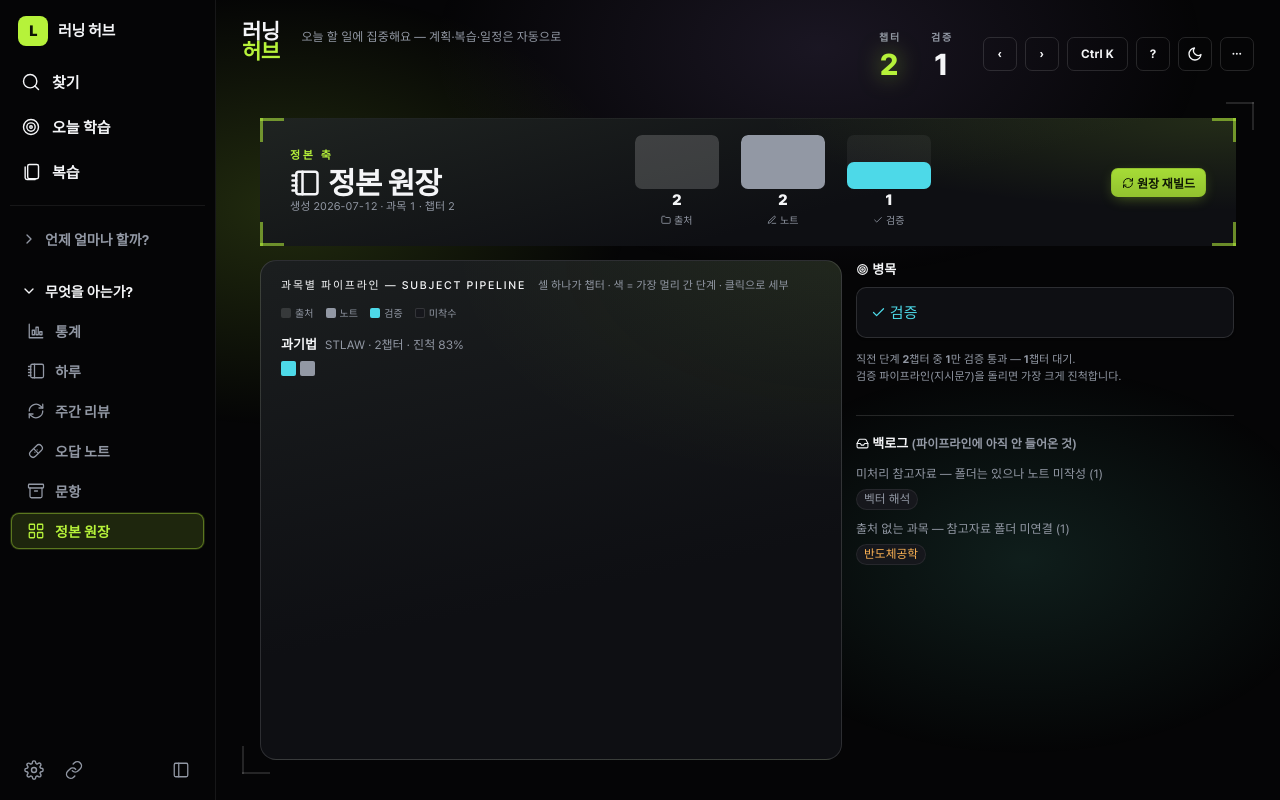
it: 원장 데이터 → 과목 행·백로그 렌더, 셀 클릭 시 챕터 상세가 열린다
Expected: the text "과기법" is shown, [281,335,317,355]
Expected: the text "벡터 해석" is shown, [856,489,918,510]
Click the button named "01 법의 가치관 — verified" at (288, 369), box [281,361,296,376]
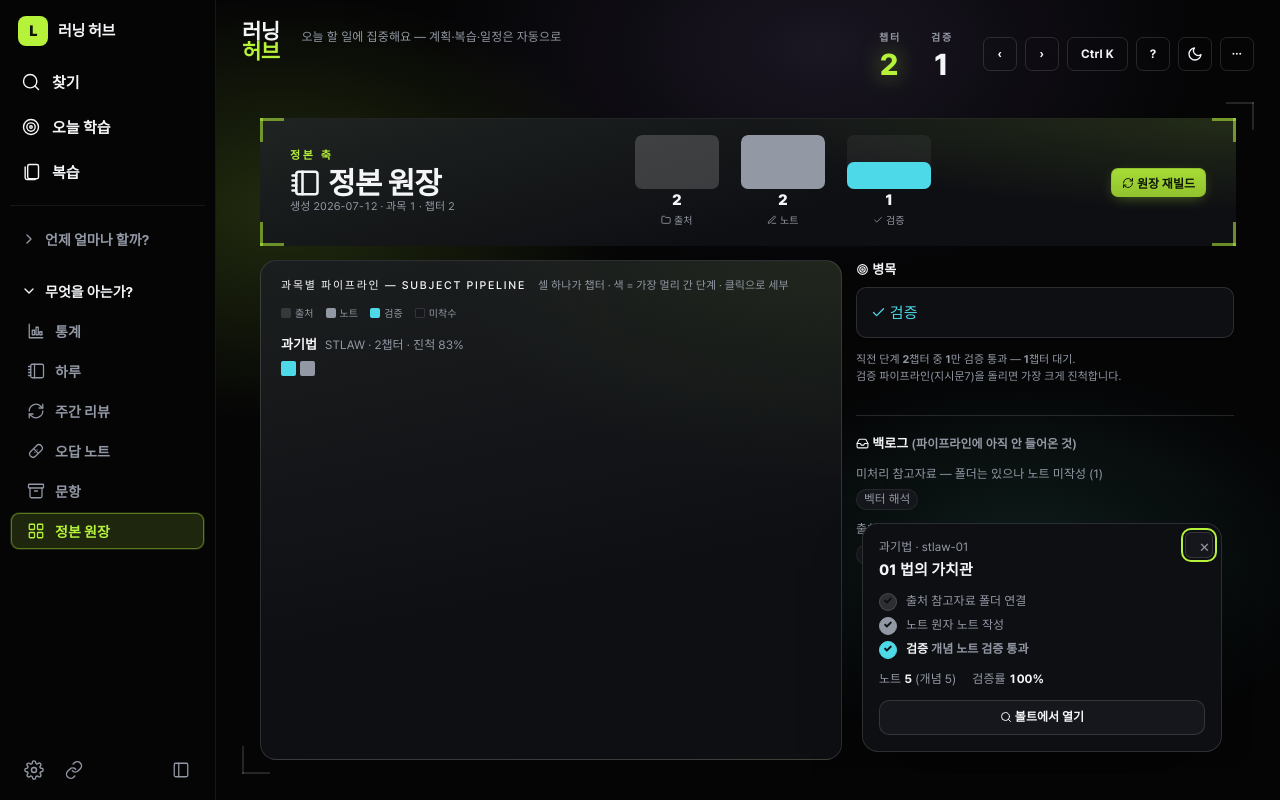
Expected: the dialog named "01 법의 가치관 상세" is shown, [862,523,1222,752]
Expected: the text "stlaw-01" is shown, [922,540,968,554]
